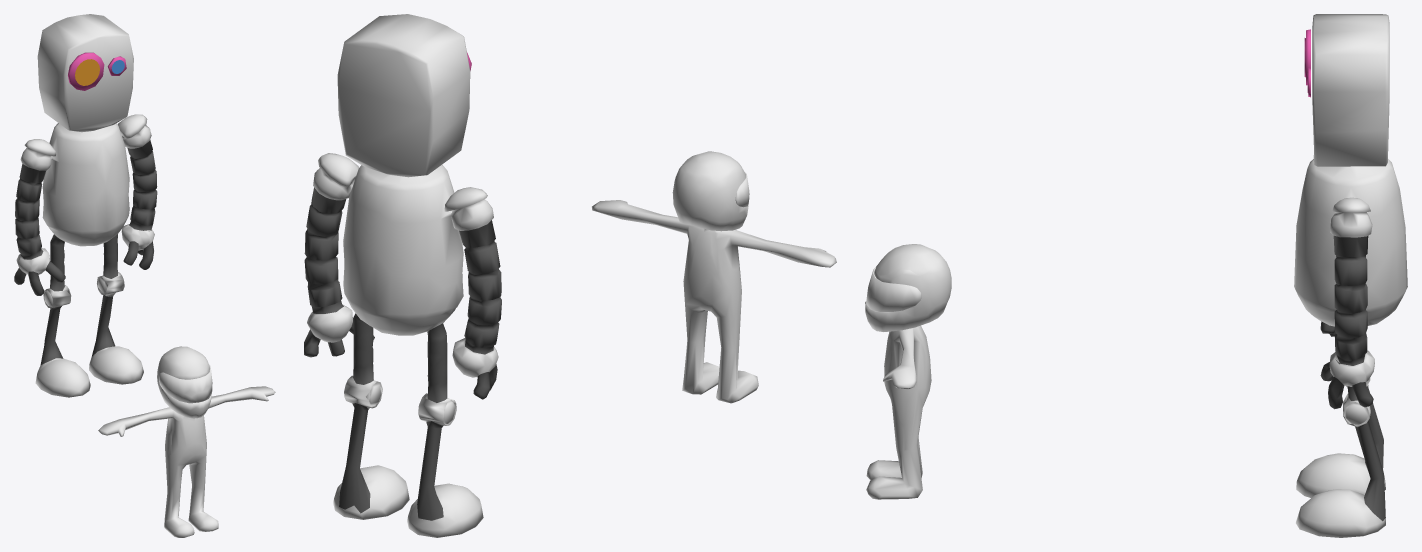
The model's file is enemy.fbx.
The picture shows the model from 3 angles, left to right: view 1: azimuth 30°, elevation 25°; view 2: azimuth 150°, elevation 25°; view 3: azimuth 270°, elevation 25°; orthographic projection. The views are drawn at different scales.
Parts seen in each view (by area): view 1: Robo man.003, stickman.025; view 2: Robo man.003, stickman.025; view 3: Robo man.003, stickman.025.
Boxes of the visible parts, <box> form: Robo man.003: <box>14,14,157,397</box>; stickman.025: <box>98,346,275,537</box>; Robo man.003: <box>304,14,501,537</box>; stickman.025: <box>592,151,836,403</box>; Robo man.003: <box>1294,14,1407,537</box>; stickman.025: <box>865,244,951,499</box>.
Bounding box in the file's own units: 324 × 519 × 508.
